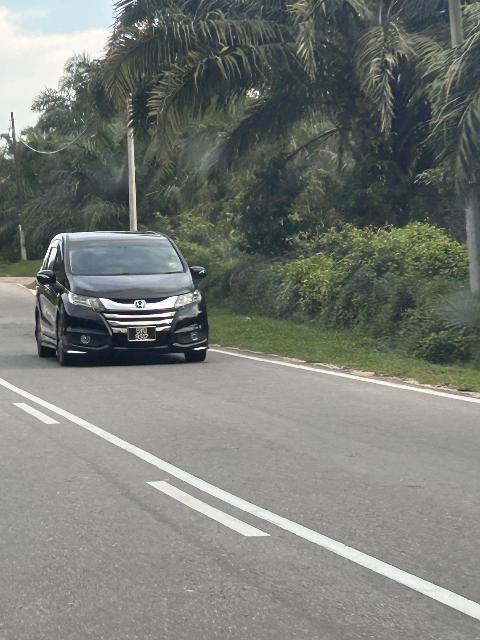License_Plate: (127, 325, 159, 345)
car: (38, 219, 207, 366)
